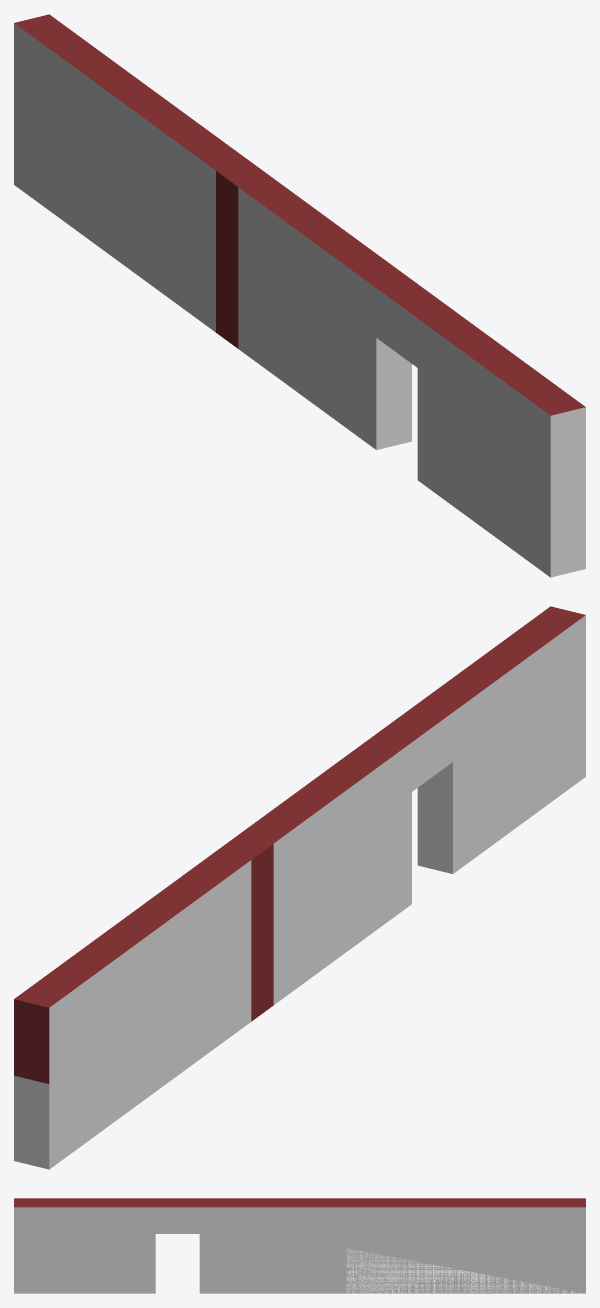
File: wall5.fbx
3 renders of one model, top to bottom at view 1: azimuth 30°, elevation 25°; view 2: azimuth 150°, elevation 25°; view 3: azimuth 270°, elevation 25°, orthographic. The views are drawn at different scales.
Visible parts, largest first — view 1: Walls.001; view 2: Walls.001; view 3: Walls.001.
Boxes of the visible parts, x1=… form: Walls.001: x1=14, y1=14, x2=585, y2=577; Walls.001: x1=14, y1=606, x2=585, y2=1169; Walls.001: x1=14, y1=1198, x2=585, y2=1293.
Size of the model in its own units: 173 by 755 by 4538.
